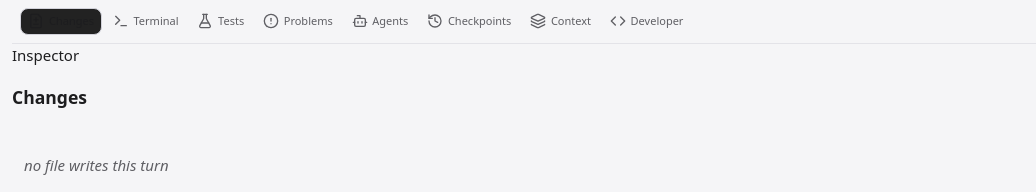
AgentPanel › the Tests tab says nothing happened yet instead of dressing an empty list
Click the tab "Tests" at [221, 21], box [189,8,252,34]
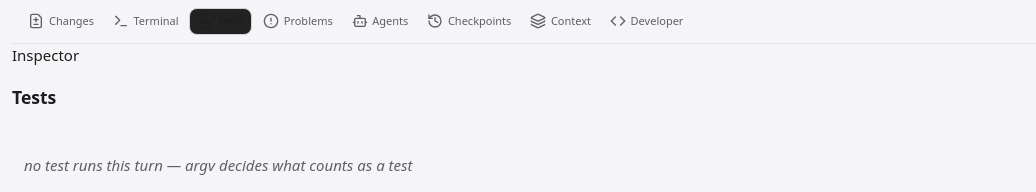
Result: the panel shows "no test runs this turn" at [24,155,412,175]
